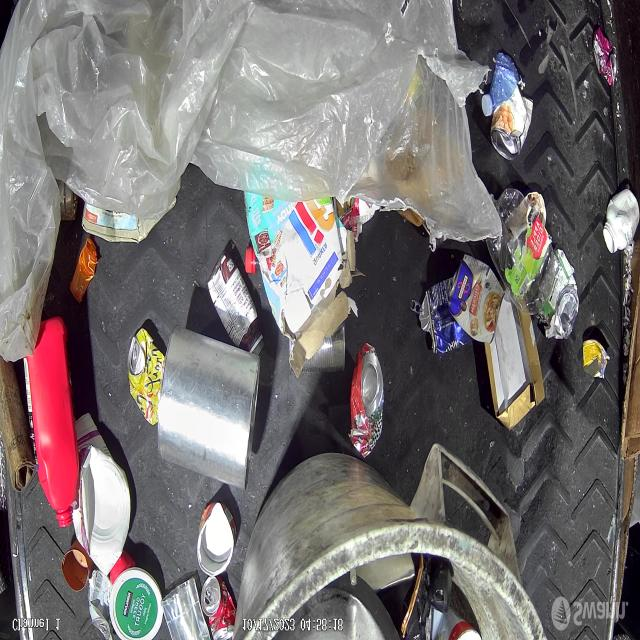can: (449, 253, 506, 346), (344, 350, 382, 464), (537, 246, 580, 338), (127, 326, 165, 427), (489, 83, 534, 162), (288, 323, 346, 378), (200, 576, 240, 640), (88, 569, 115, 640), (592, 26, 618, 89)
non_white_jug: (28, 321, 80, 527)
